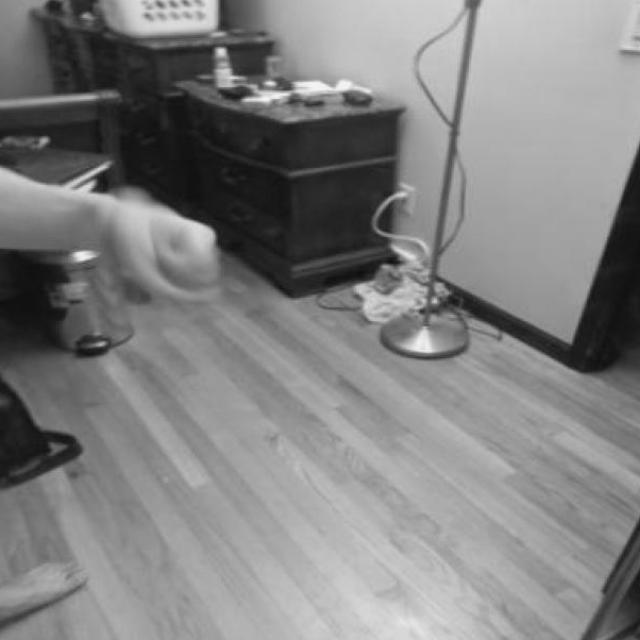J: (66, 163, 226, 314)
